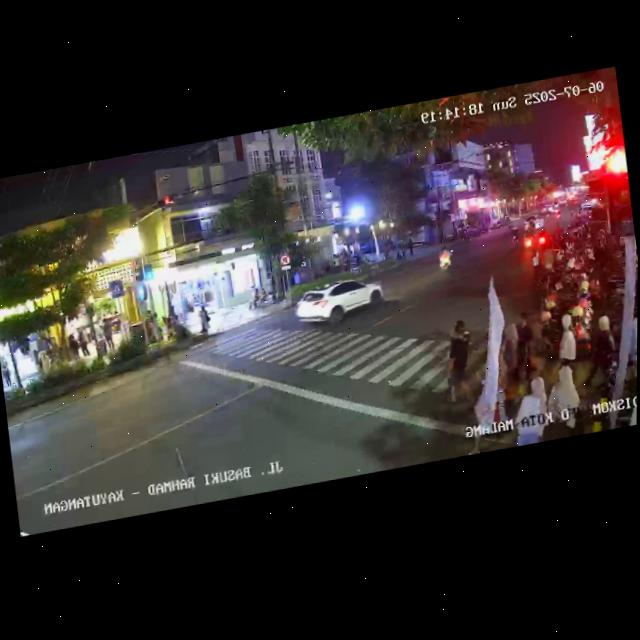car: (291, 270, 385, 333), (577, 194, 606, 219)
motorcycle: (435, 244, 457, 275), (522, 213, 543, 233)
person: (438, 318, 478, 414), (542, 362, 584, 441), (509, 375, 553, 446), (511, 310, 538, 380), (493, 323, 523, 385), (590, 313, 617, 374), (553, 312, 578, 373), (527, 251, 544, 287), (93, 324, 108, 362), (197, 303, 213, 337), (102, 319, 116, 355), (67, 329, 82, 362), (77, 325, 91, 360), (0, 354, 11, 388), (248, 285, 262, 310)
